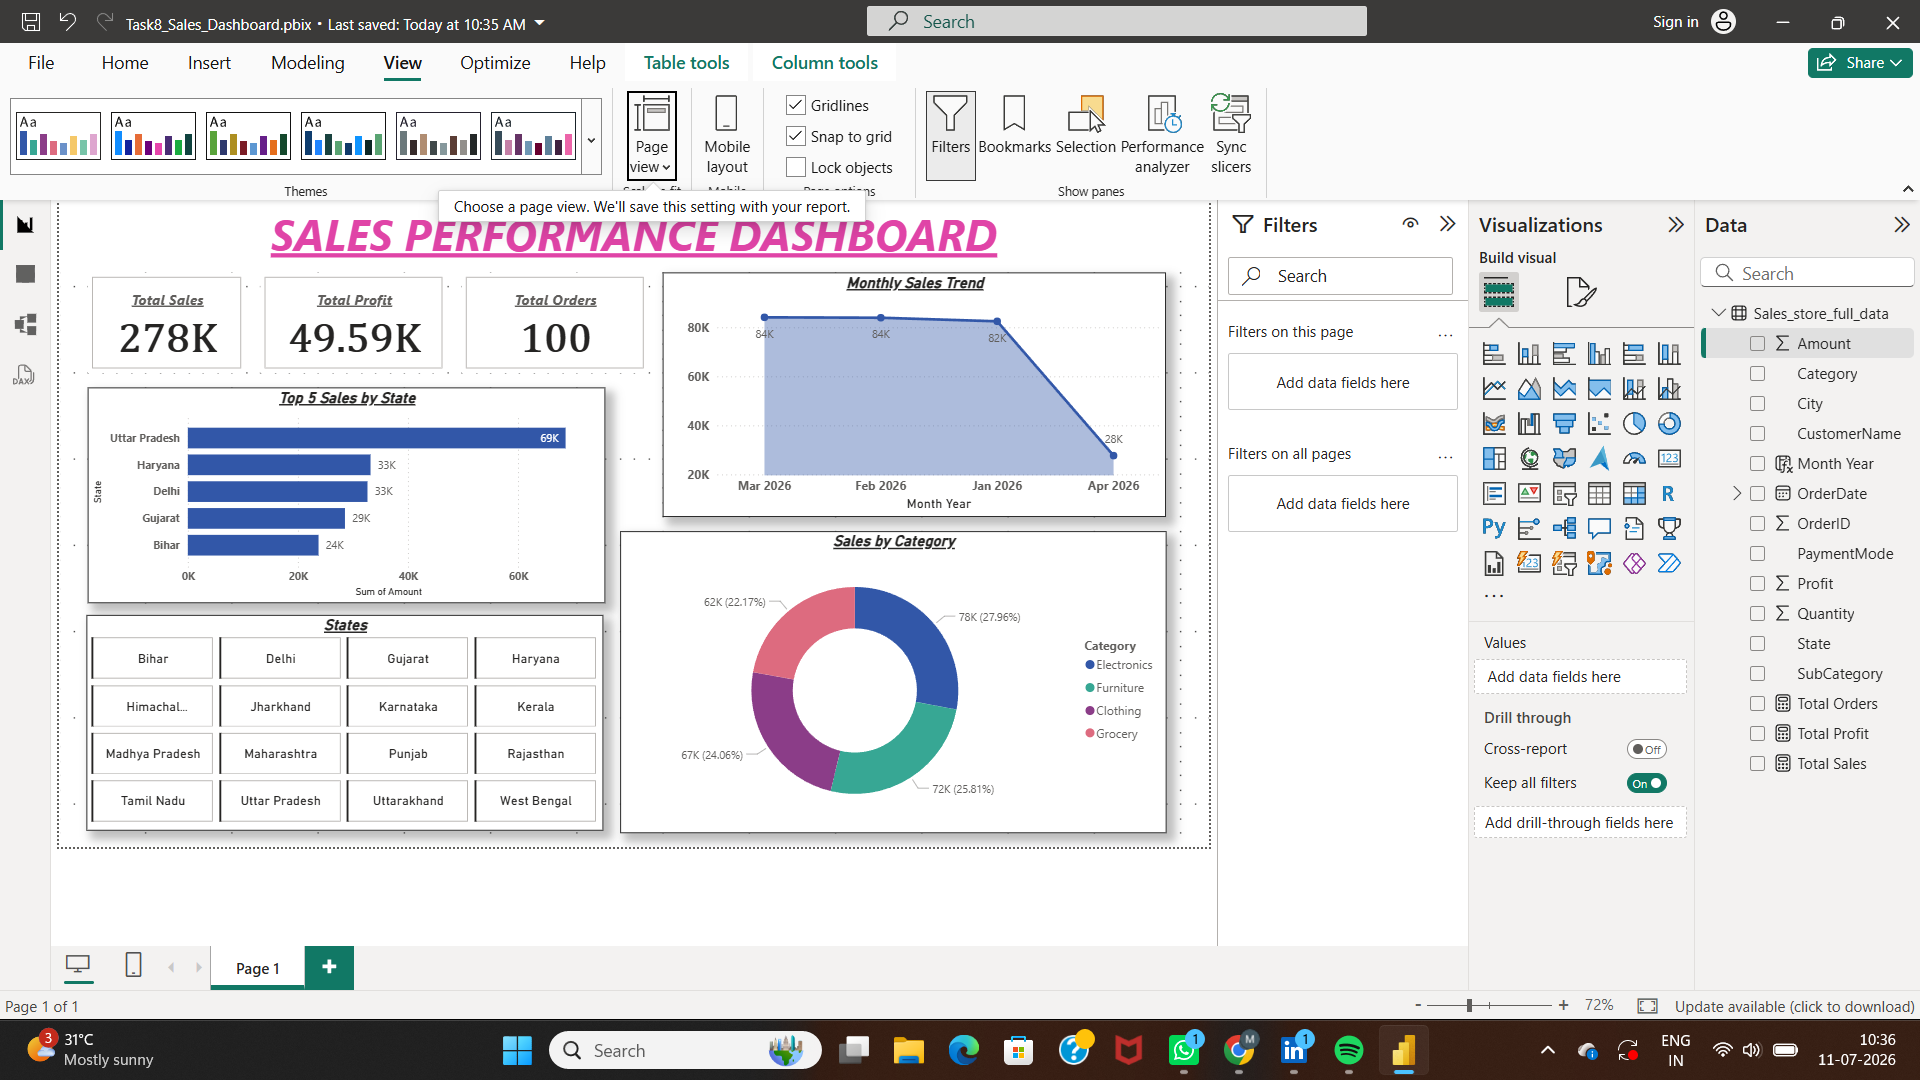

The page's visual inventory and layout, read from the dashboard file:
{"tool":"powerbi","page":{"name":"Page 1","canvas":[1280,720],"ordinal":0},"visuals":[{"type":"cardVisual","fields":{"Data":["Sales_store_full_data.Total Sales"]},"box":[32,80,176,112],"z":0},{"type":"cardVisual","fields":{"Data":["Sales_store_full_data.Total Profit"]},"box":[224,80,208,112],"z":1},{"type":"cardVisual","fields":{"Data":["Sales_store_full_data.Total Orders"]},"box":[448,80,208,112],"z":2},{"type":"textbox","box":[0,0,1280,80],"z":3},{"type":"lineChart","title":"Monthly Sales Trend","fields":{"Category":["Sales_store_full_data.Month Year"],"Y":["Sum(Sales_store_full_data.Amount)"]},"box":[672,80,560,272],"z":4},{"type":"clusteredBarChart","title":"Top 5 Sales by State","fields":{"Category":["Sales_store_full_data.State"],"Y":["Sum(Sales_store_full_data.Amount)"]},"box":[32,208,576,240],"z":5},{"type":"donutChart","title":"Sales by Category","fields":{"Category":["Sales_store_full_data.Category"],"Y":["Sum(Sales_store_full_data.Amount)"]},"box":[624,368,608,336],"z":6},{"type":"advancedSlicerVisual","title":"States","fields":{"Values":["Sales_store_full_data.State"]},"box":[30,462,575,240],"z":7}]}

Visuals, with their boxes on the page's 1280x720 design canvas (x1, y1, x2, y2). These are canvas units, not pixel positions in the 1920x1080 screenshot, which may show the page scaled, cropped or inside an application window:
cardVisual - Sales_store_full_data.Total Sales: BBox(32, 80, 208, 192)
cardVisual - Sales_store_full_data.Total Profit: BBox(224, 80, 432, 192)
cardVisual - Sales_store_full_data.Total Orders: BBox(448, 80, 656, 192)
textbox: BBox(0, 0, 1280, 80)
"Monthly Sales Trend" lineChart: BBox(672, 80, 1232, 352)
"Top 5 Sales by State" clusteredBarChart: BBox(32, 208, 608, 448)
"Sales by Category" donutChart: BBox(624, 368, 1232, 704)
"States" advancedSlicerVisual: BBox(30, 462, 605, 702)
